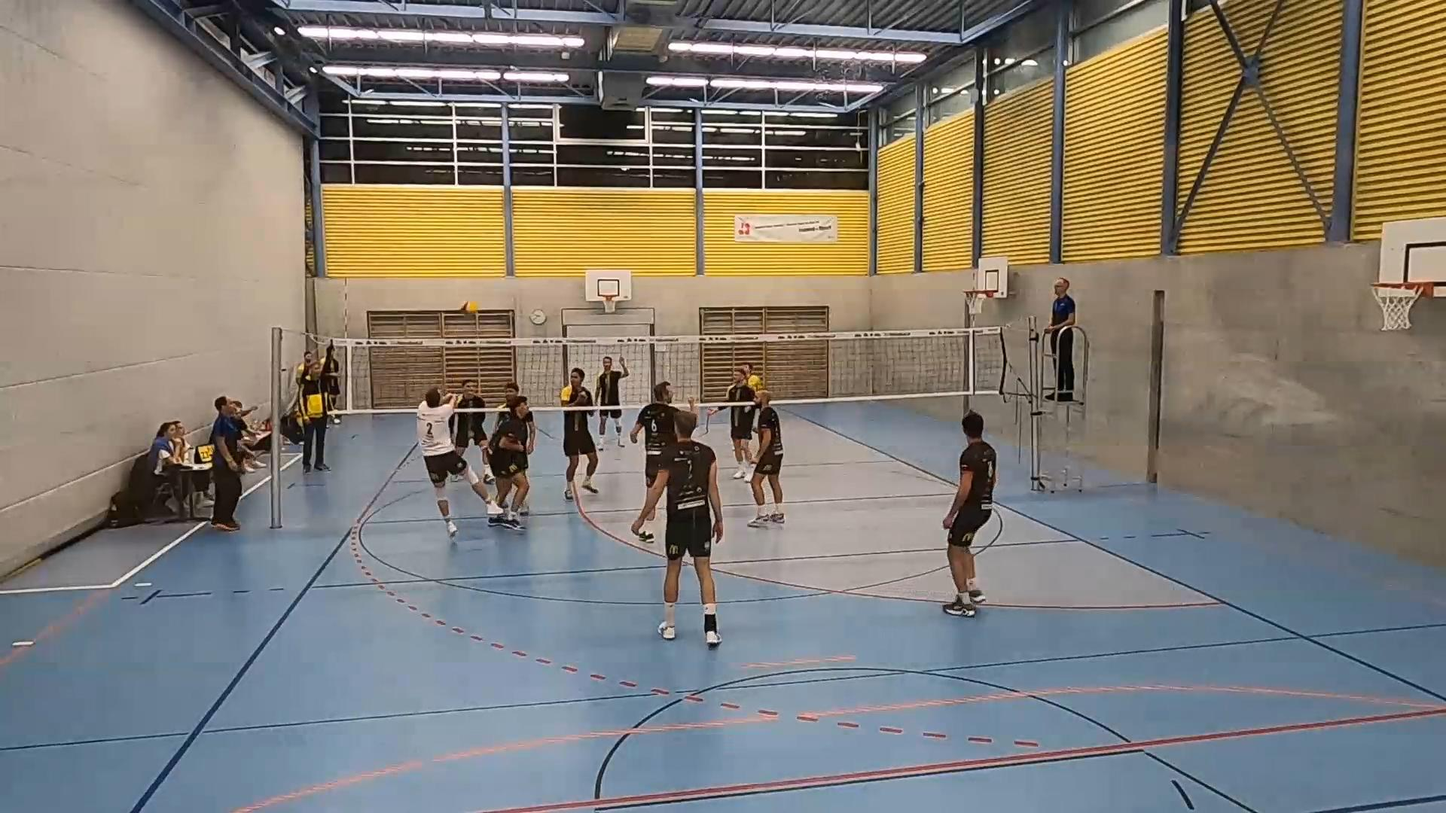Dig: (411, 387, 505, 549)
Player: (633, 411, 722, 647), (943, 412, 996, 617), (489, 395, 532, 529), (630, 381, 679, 487), (709, 367, 755, 479), (749, 390, 785, 528), (561, 367, 597, 500), (452, 380, 492, 482), (596, 357, 630, 447), (494, 382, 520, 431), (741, 362, 763, 392)
ball: (459, 302, 476, 316)
